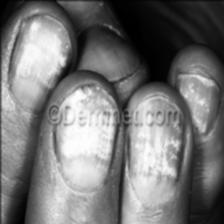Toxin: (54, 82, 113, 190), (130, 94, 184, 202)
